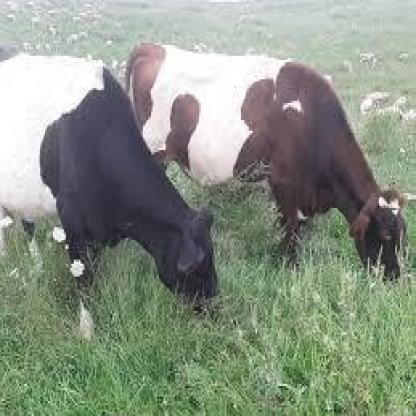cow: (124, 42, 406, 280), (0, 47, 222, 339)
